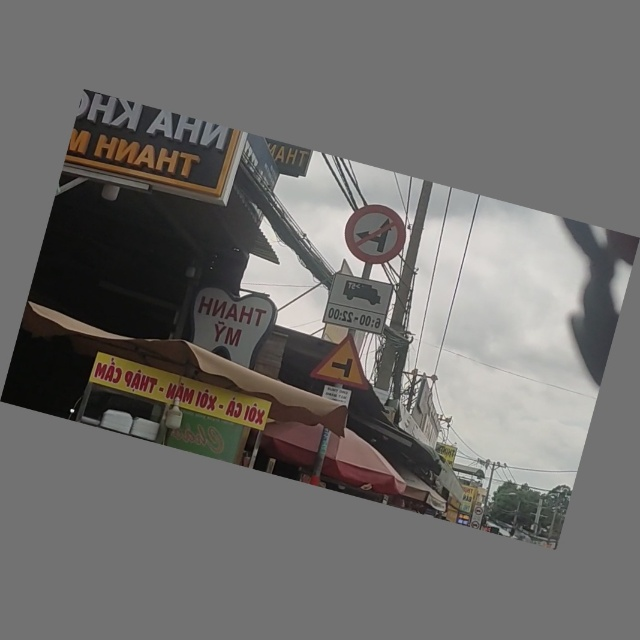P.139: (339, 199, 411, 271)
S.505a*Xe tai: (324, 272, 395, 336)
W.205b: (309, 328, 378, 391)
